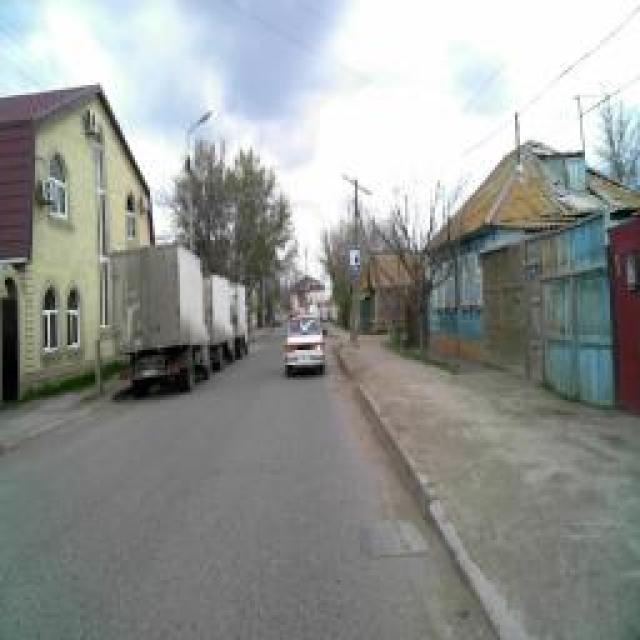sign: (349, 245, 361, 273)
